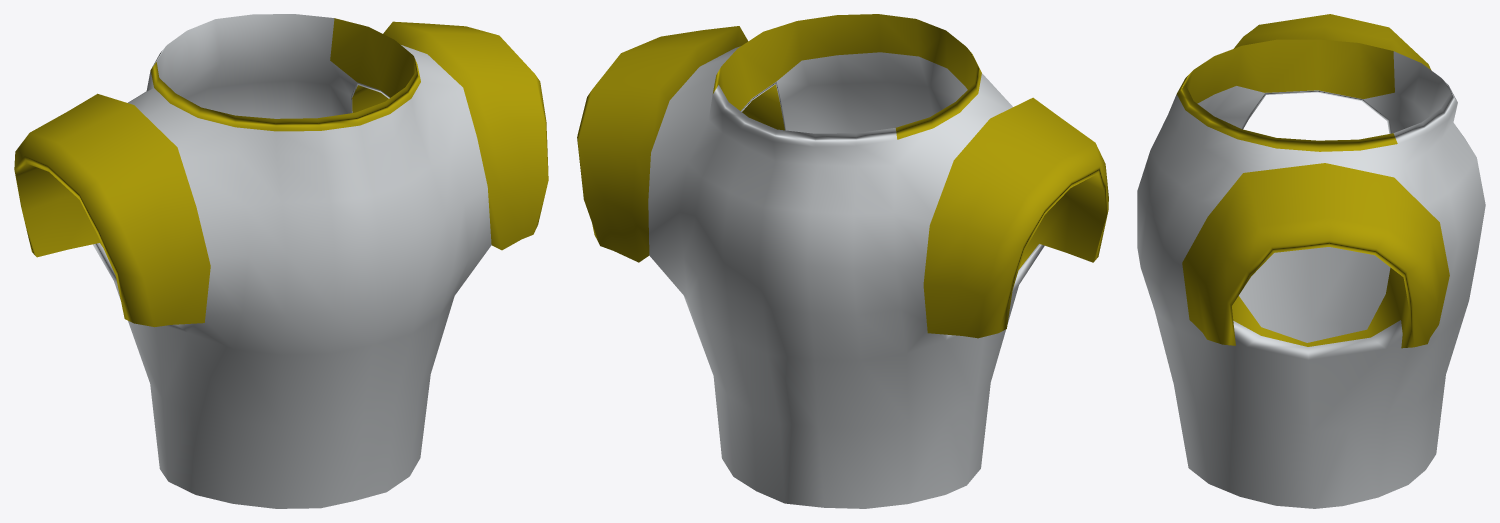
The model's file is armor_chestplate.fbx.
3 views of the same model, side by side, from view 1: azimuth 30°, elevation 25°; view 2: azimuth 150°, elevation 25°; view 3: azimuth 270°, elevation 25° (orthographic). The views are drawn at different scales.
Parts seen in each view (by area): view 1: chest:RoadKillOut; view 2: chest:RoadKillOut; view 3: chest:RoadKillOut.
Part boxes in pixels (x1,y1,x2,y2): chest:RoadKillOut: [14, 14, 548, 508]; chest:RoadKillOut: [577, 14, 1108, 508]; chest:RoadKillOut: [1137, 14, 1485, 508].
Size of the model in its own units: 191 by 153 by 131.
